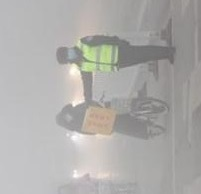person: (54, 36, 176, 102), (57, 101, 160, 140), (56, 172, 137, 194)
